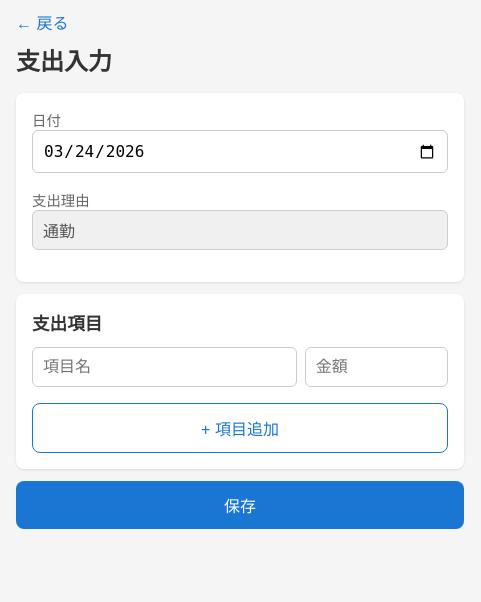
it: ExpenseInput › 項目追加ボタンで行が増える
This screenshot has width=481, height=602.
Check: the number of number fields with placeholder "金額" is 1, box left=305, top=347, right=448, bottom=387
Click the button "+ 項目追加". click: [240, 428]
box: left=32, top=403, right=448, bottom=453
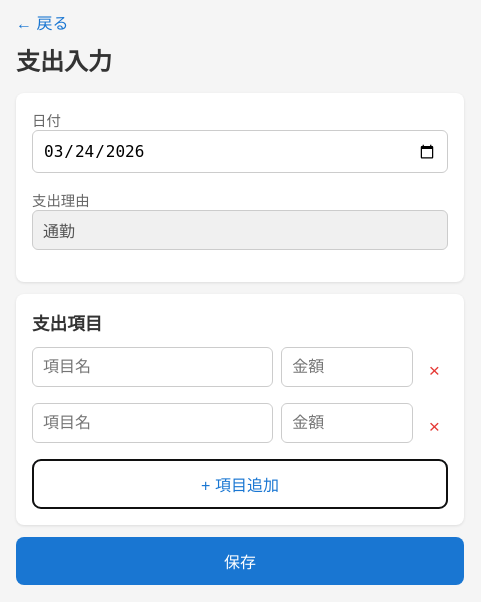
Check: the number of number fields with placeholder "金額" is 2, box left=281, top=347, right=413, bottom=387; left=281, top=403, right=413, bottom=443
